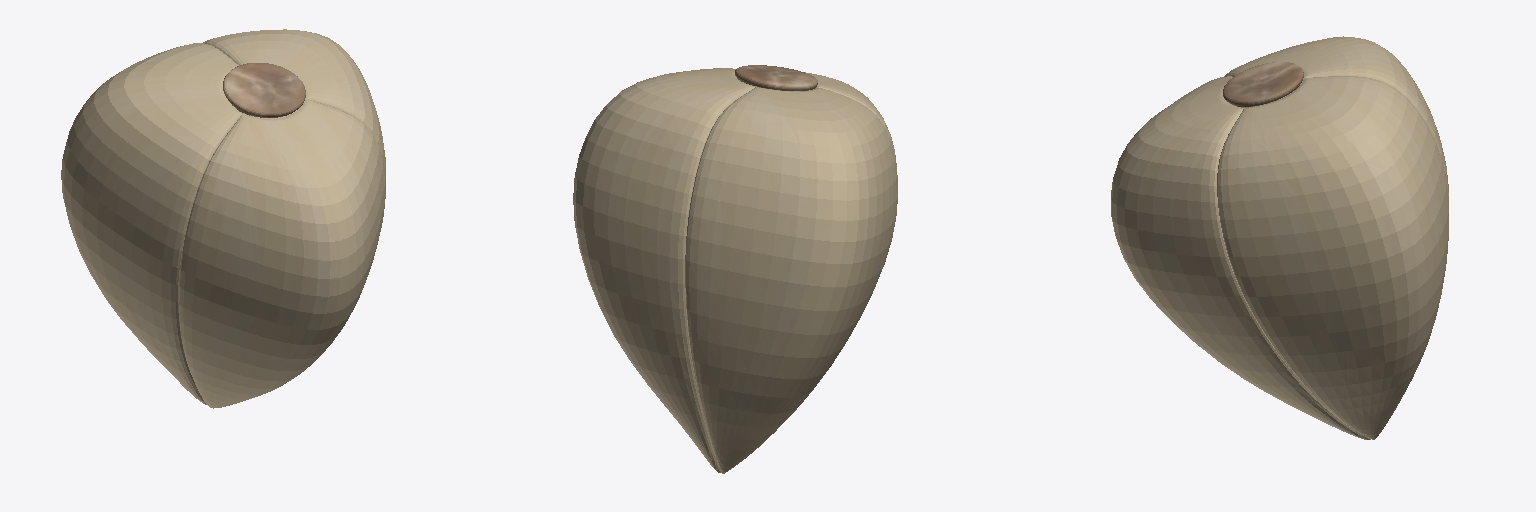
3 views of the same model, side by side, from view 1: azimuth 30°, elevation 25°; view 2: azimuth 150°, elevation 25°; view 3: azimuth 270°, elevation 25° (orthographic).
Parts seen in each view (by area): view 1: GrainBuckwheat018; view 2: GrainBuckwheat018; view 3: GrainBuckwheat018.
Part boxes in pixels (x1,y1,x2,y2): GrainBuckwheat018: (61,29,385,408); GrainBuckwheat018: (573,65,897,473); GrainBuckwheat018: (1111,36,1448,439).
Bounding box in the file's own units: 0.0252 × 0.0315 × 0.0262.
1 materials, 1 textured.